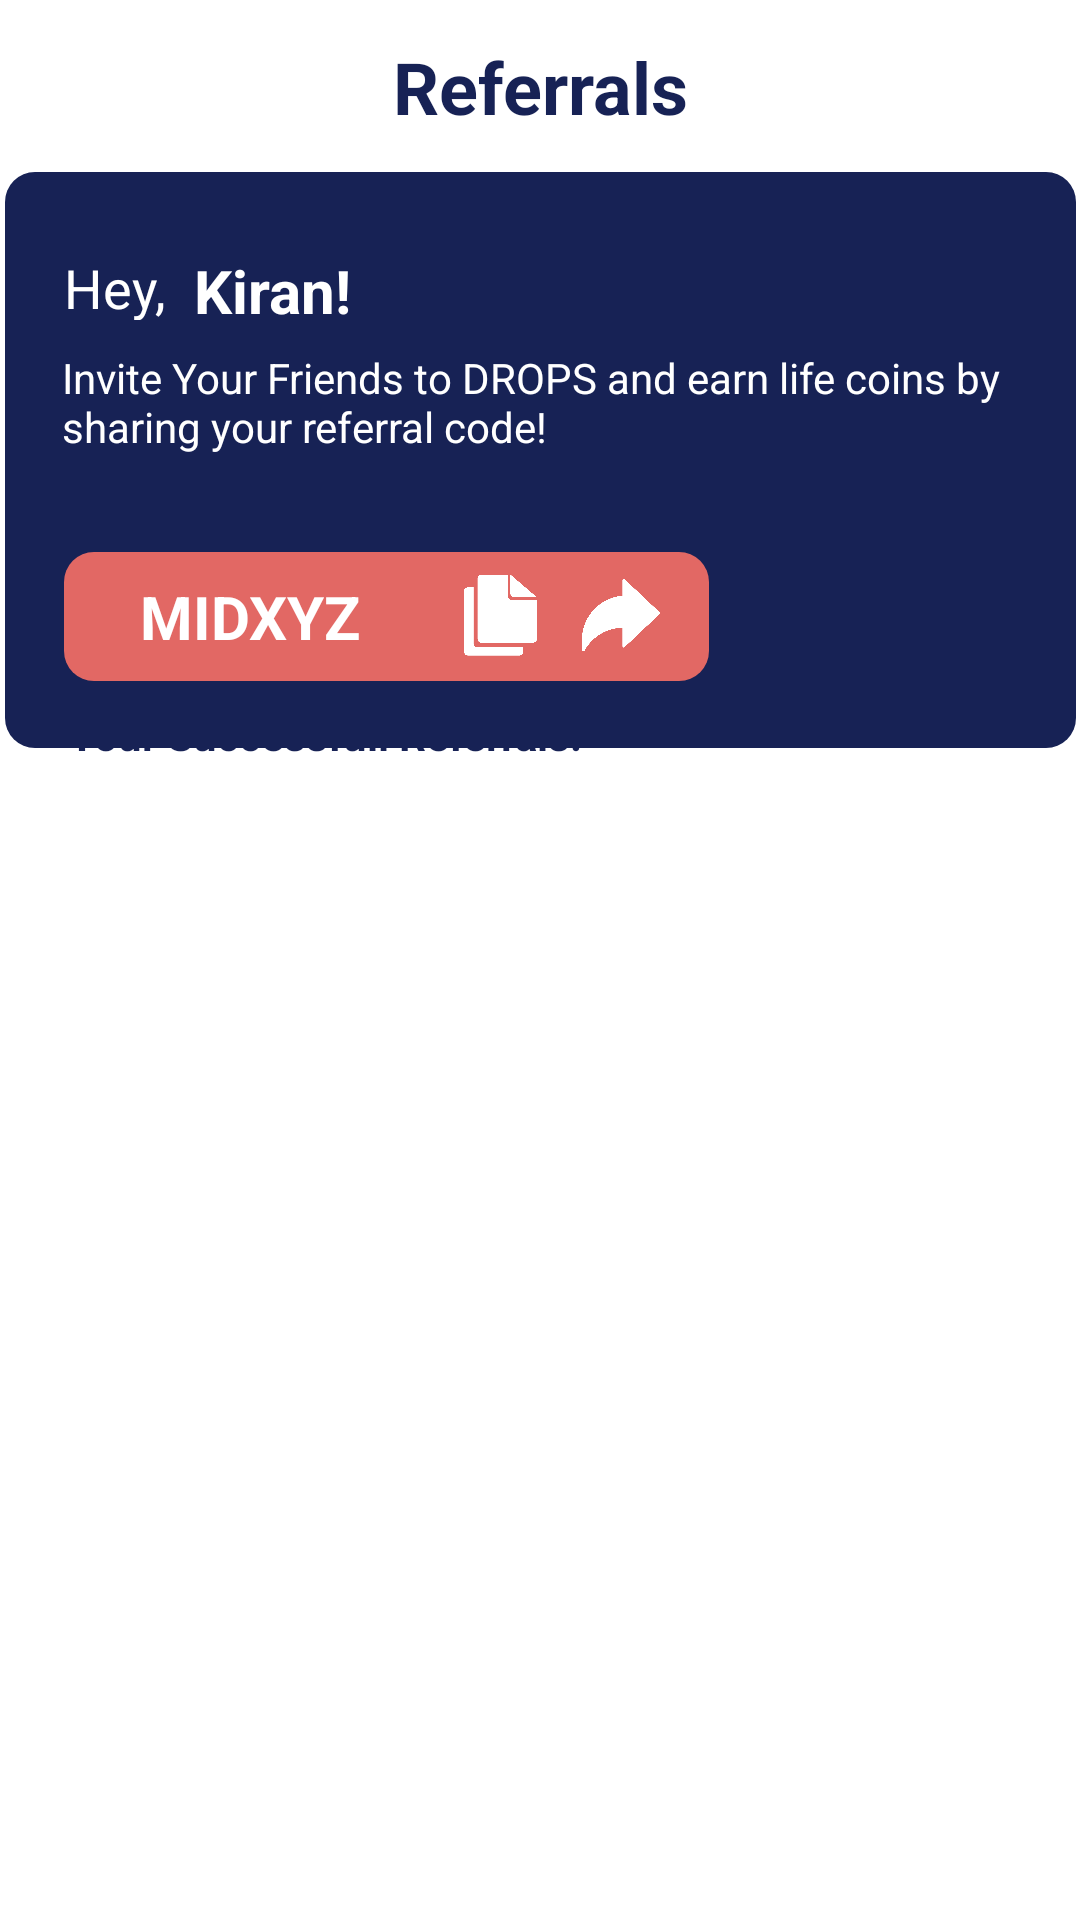

Named icons in this screenshot (1080 × 1920) and their centers, point (x, y):
share: point (621, 615)
